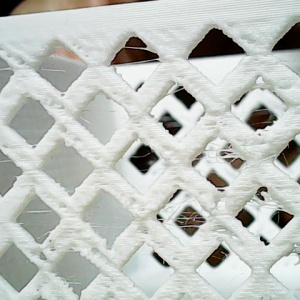3dpstringing: (190, 140, 249, 195), (158, 202, 210, 240), (111, 46, 163, 68), (25, 208, 58, 239), (249, 196, 295, 215), (63, 106, 101, 128), (90, 218, 135, 236), (160, 81, 193, 99), (254, 108, 283, 128), (61, 273, 91, 291), (204, 248, 236, 263), (276, 153, 291, 185), (248, 80, 278, 96), (124, 150, 156, 162), (281, 246, 300, 266), (40, 67, 78, 76), (1, 155, 20, 166), (1, 67, 18, 77), (158, 257, 168, 269)
3dpunderextrusion: (54, 123, 102, 163), (211, 197, 245, 245), (246, 70, 295, 91), (31, 242, 64, 270), (3, 44, 33, 67)
